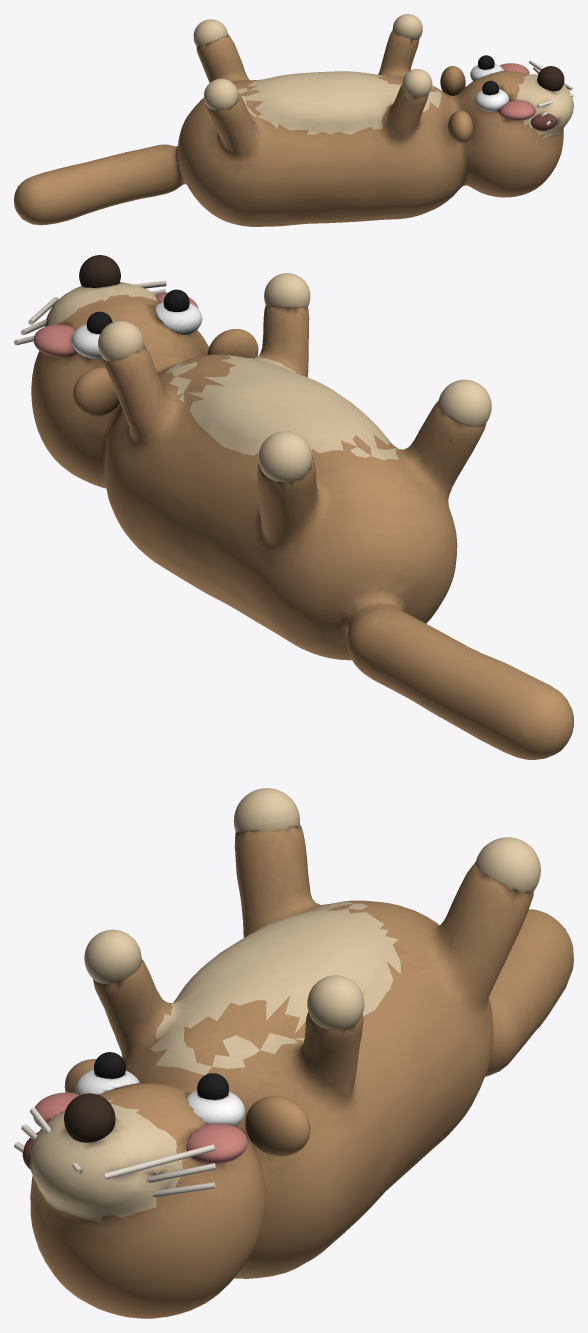
The model's file is jag-maste-vabba-idag.glb.
The picture shows the model from 3 angles, top to bottom: view 1: azimuth 30°, elevation 25°; view 2: azimuth 150°, elevation 25°; view 3: azimuth 270°, elevation 25°; orthographic projection. The views are drawn at different scales.
Parts seen in each view (by area): view 1: filhote__r0, filhote__r15, filhote__r14, filhote__r9, filhote__r6, filhote__r20, filhote__r5, filhote__r10, filhote__r7, filhote__r16, filhote__r17, filhote__r18; view 2: filhote__r0, filhote__r6, filhote__r15, filhote__r20, filhote__r5, filhote__r14, filhote__r1, filhote__r16, filhote__r9, filhote__r7, filhote__r18; view 3: filhote__r0, filhote__r20, filhote__r6, filhote__r5, filhote__r14, filhote__r15, filhote__r16, filhote__r1, filhote__r18, filhote__r7, filhote__r4, filhote__r10 (+2 smaller).
Part boxes in pixels (box(x1,y1,x2,y2)): filhote__r0: box(14, 30, 573, 226); filhote__r15: box(204, 78, 238, 110); filhote__r14: box(402, 69, 432, 97); filhote__r9: box(448, 110, 473, 143); filhote__r6: box(193, 19, 228, 46); filhote__r20: box(440, 66, 465, 95); filhote__r5: box(392, 14, 422, 39); filhote__r10: box(498, 100, 535, 120); filhote__r7: box(474, 89, 509, 111); filhote__r16: box(537, 66, 564, 90); filhote__r17: box(531, 114, 556, 130); filhote__r18: box(470, 64, 503, 81); filhote__r0: box(31, 282, 573, 759); filhote__r6: box(258, 431, 312, 482); filhote__r15: box(438, 379, 491, 426); filhote__r20: box(73, 367, 119, 416); filhote__r5: box(98, 321, 144, 361); filhote__r14: box(264, 273, 310, 307); filhote__r1: box(33, 324, 76, 357); filhote__r16: box(79, 255, 120, 287); filhote__r9: box(207, 329, 258, 358); filhote__r7: box(155, 302, 202, 334); filhote__r18: box(71, 324, 102, 359); filhote__r0: box(29, 825, 573, 1318); filhote__r20: box(245, 1096, 310, 1156); filhote__r6: box(475, 837, 540, 893); filhote__r5: box(307, 975, 364, 1030); filhote__r14: box(84, 929, 141, 983); filhote__r15: box(233, 788, 299, 832); filhote__r16: box(64, 1093, 115, 1142); filhote__r1: box(186, 1123, 247, 1164); filhote__r18: box(187, 1090, 244, 1126); filhote__r7: box(75, 1069, 140, 1094); filhote__r4: box(103, 1144, 215, 1179); filhote__r10: box(33, 1092, 79, 1127).
Size of the model in its own units: 1.7 by 0.6293 by 0.9773.
